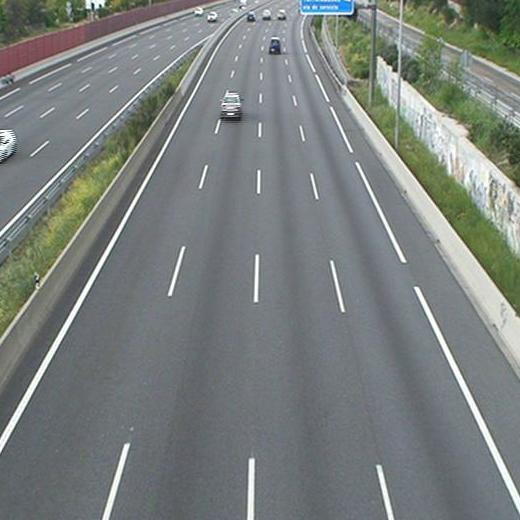car: (221, 91, 242, 120), (269, 36, 281, 54)
